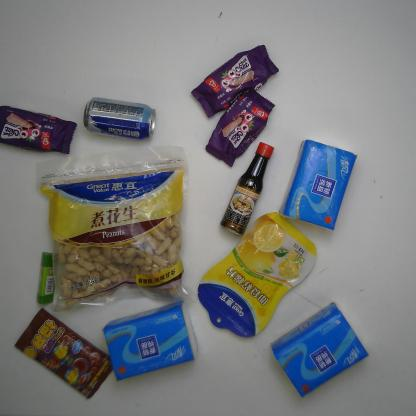Alcohol: (82, 97, 156, 141)
Candy: (14, 306, 115, 401)
Dessert: (189, 44, 279, 118), (204, 89, 276, 168), (0, 104, 78, 155)
Dried Food: (34, 144, 196, 312)
Dried Fruit: (196, 210, 318, 339)
Seasoner: (218, 141, 275, 237)
Stationery: (36, 250, 58, 305)
Tissue: (270, 302, 370, 399), (102, 300, 199, 382), (277, 140, 358, 232)
